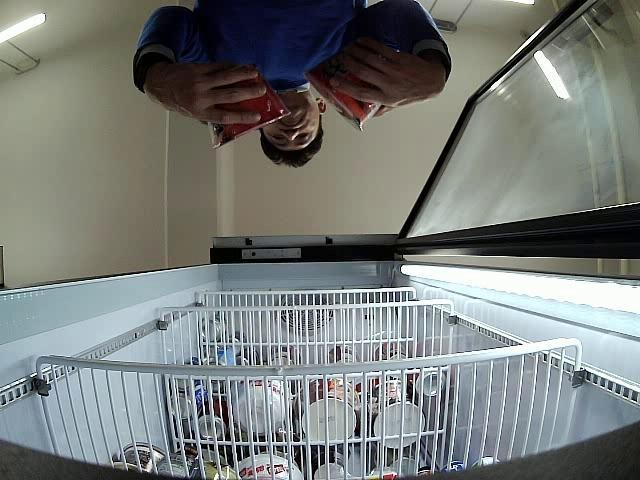01_ShinRamen_L: (209, 72, 294, 149), (304, 54, 382, 132)
